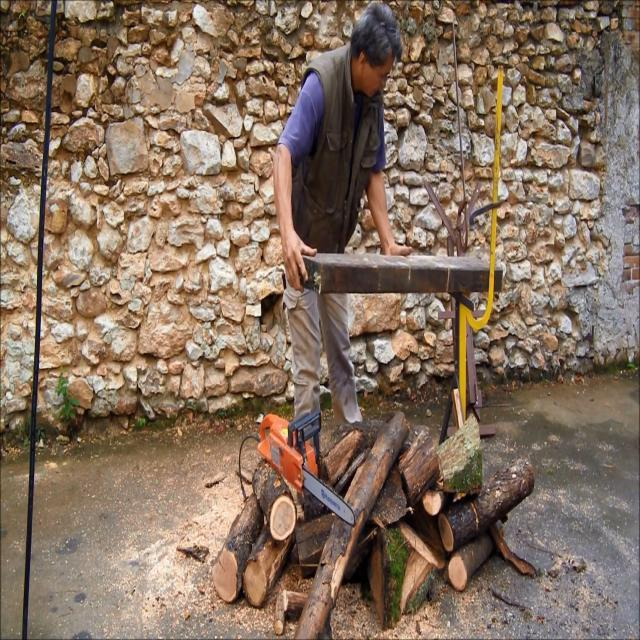Chainsaw: (234, 376, 364, 554)
